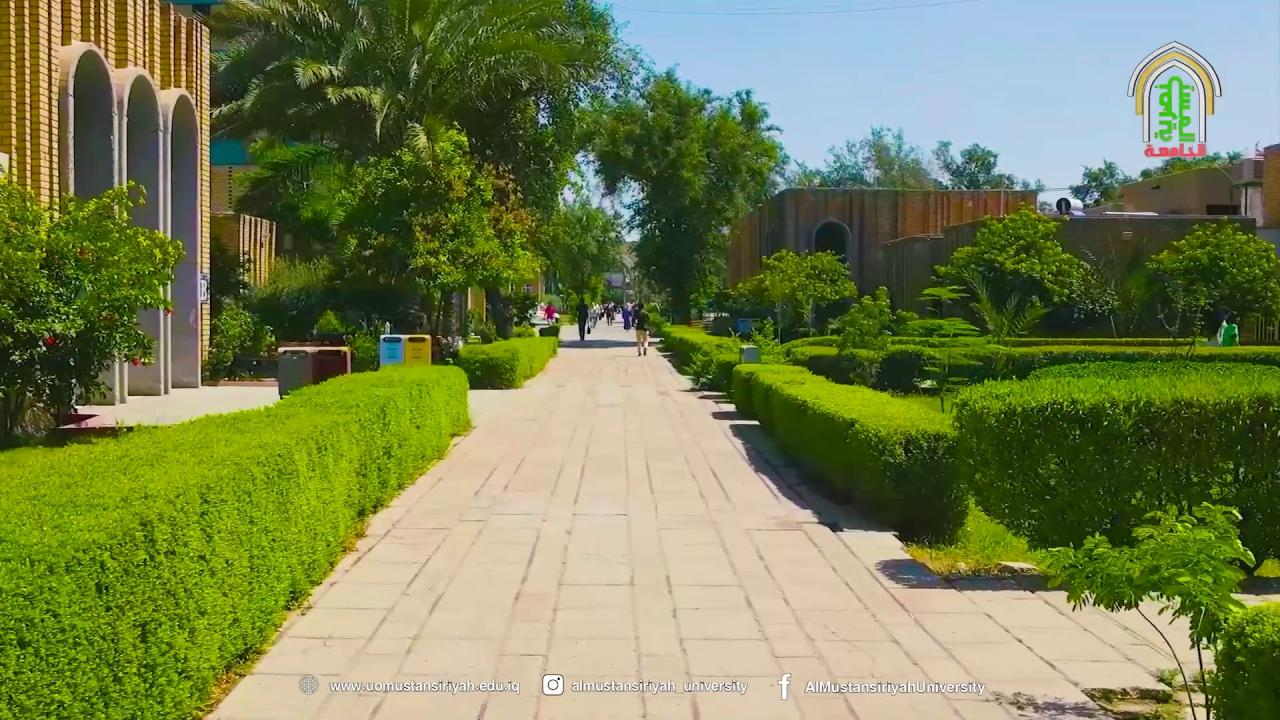fountain: (276, 340, 352, 399), (378, 332, 431, 368)
person: (632, 302, 651, 356), (1216, 311, 1240, 347), (574, 298, 588, 342), (544, 301, 556, 325)
tree: (660, 189, 1280, 574), (206, 0, 617, 355), (582, 65, 784, 326), (0, 168, 185, 444), (1030, 498, 1258, 718), (324, 118, 512, 357), (919, 200, 1113, 335), (1144, 219, 1278, 344), (735, 247, 857, 342), (536, 200, 623, 325), (203, 298, 275, 380), (826, 285, 917, 348), (860, 124, 929, 189), (931, 139, 1008, 189), (1069, 156, 1131, 206), (821, 138, 870, 187)
